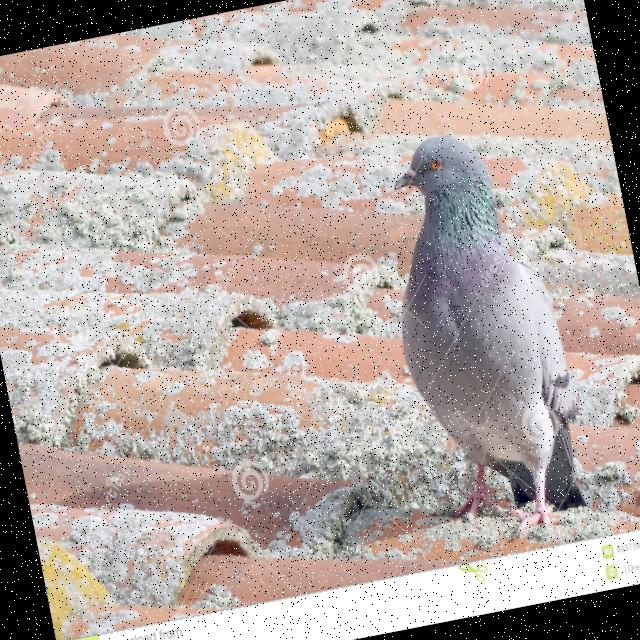bird: (362, 116, 604, 553)
